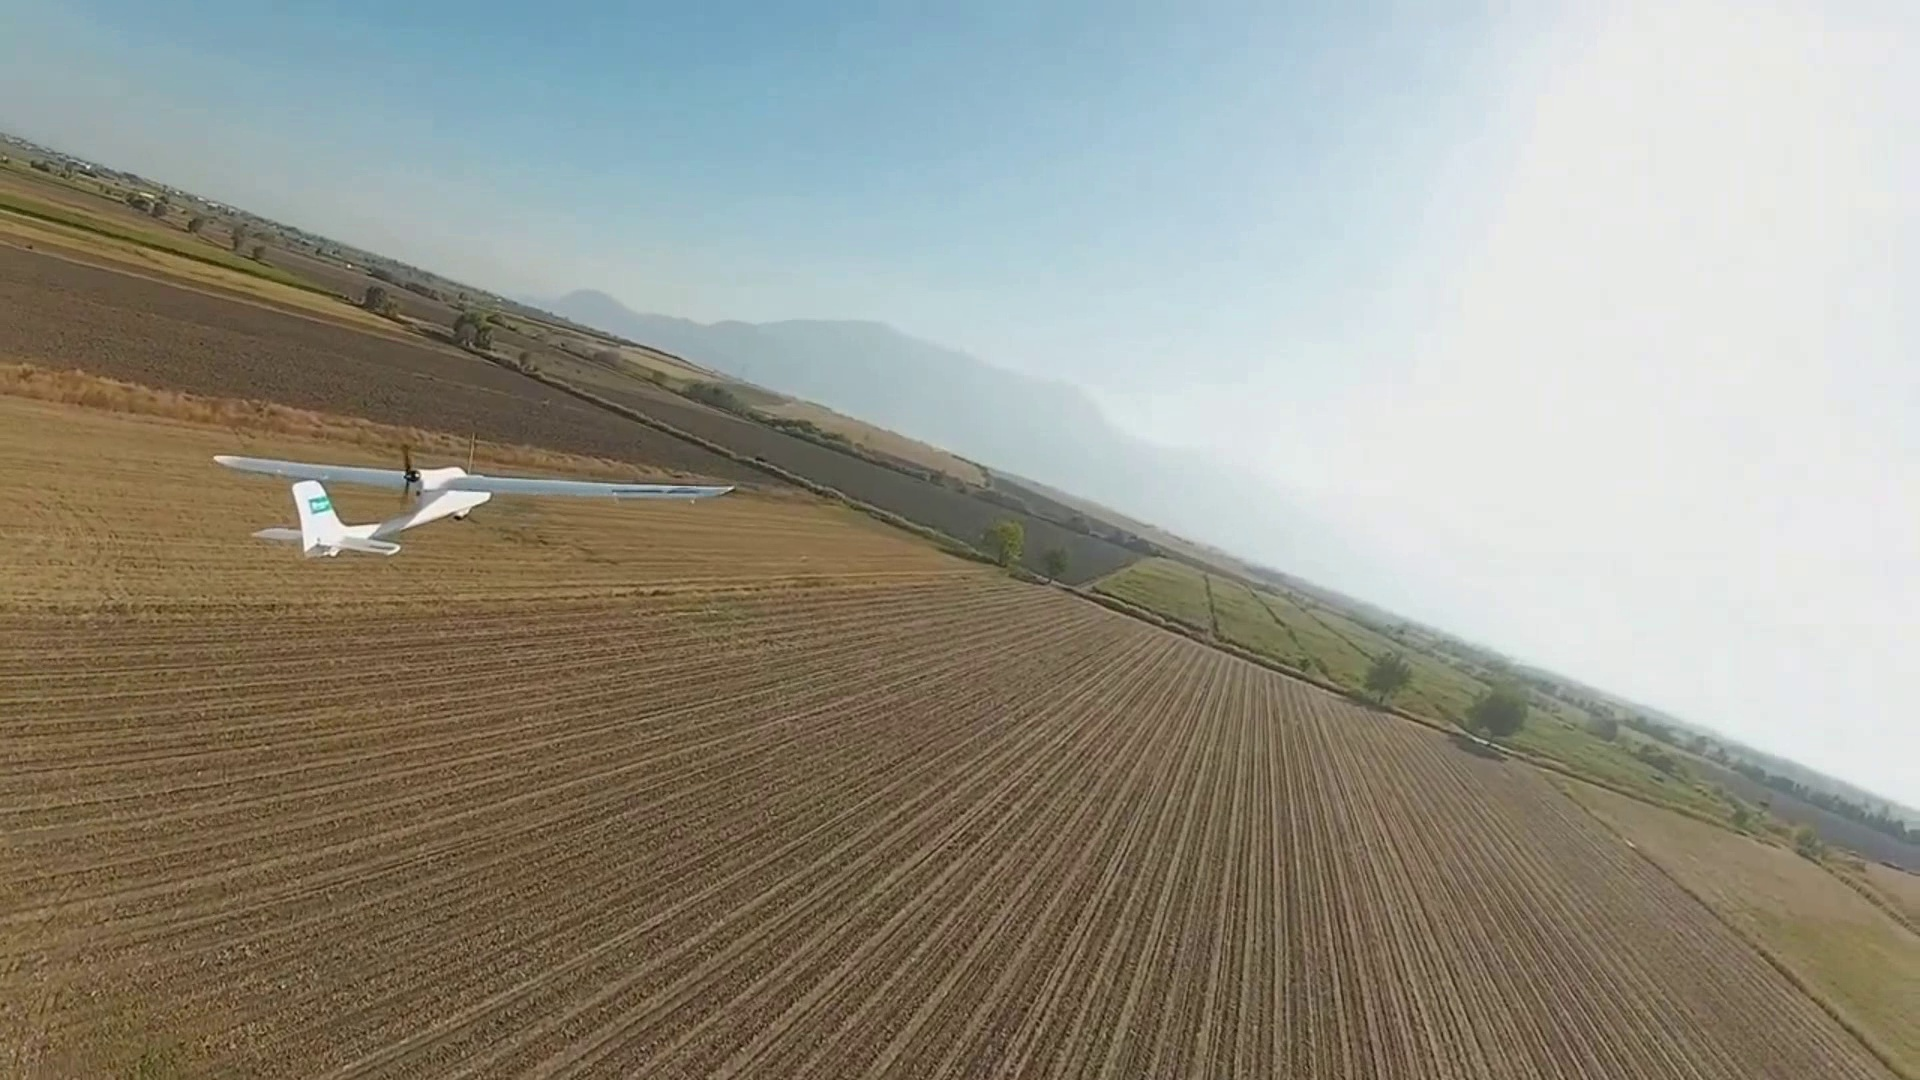airplane: (211, 442, 740, 559), (210, 451, 495, 558)
